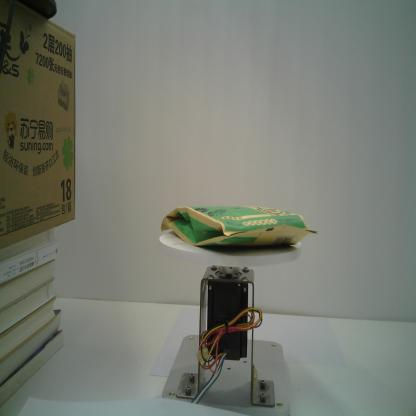Dried Food: (156, 201, 320, 254)
